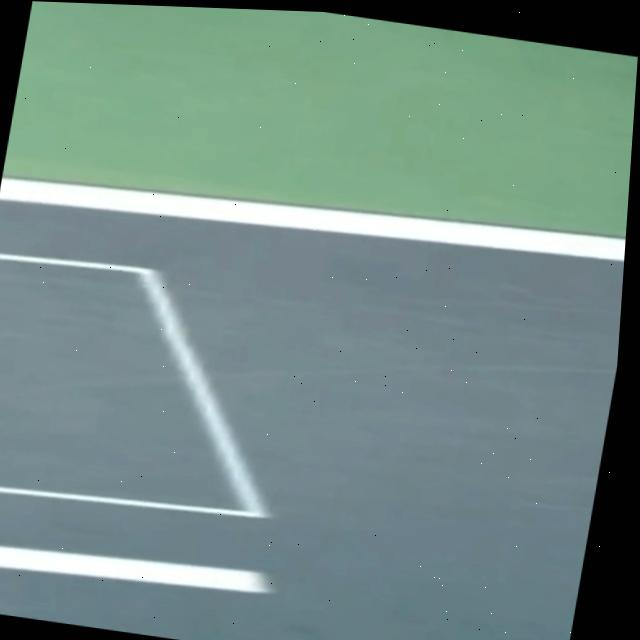center: (0, 546, 271, 591)
right: (0, 178, 626, 261)
